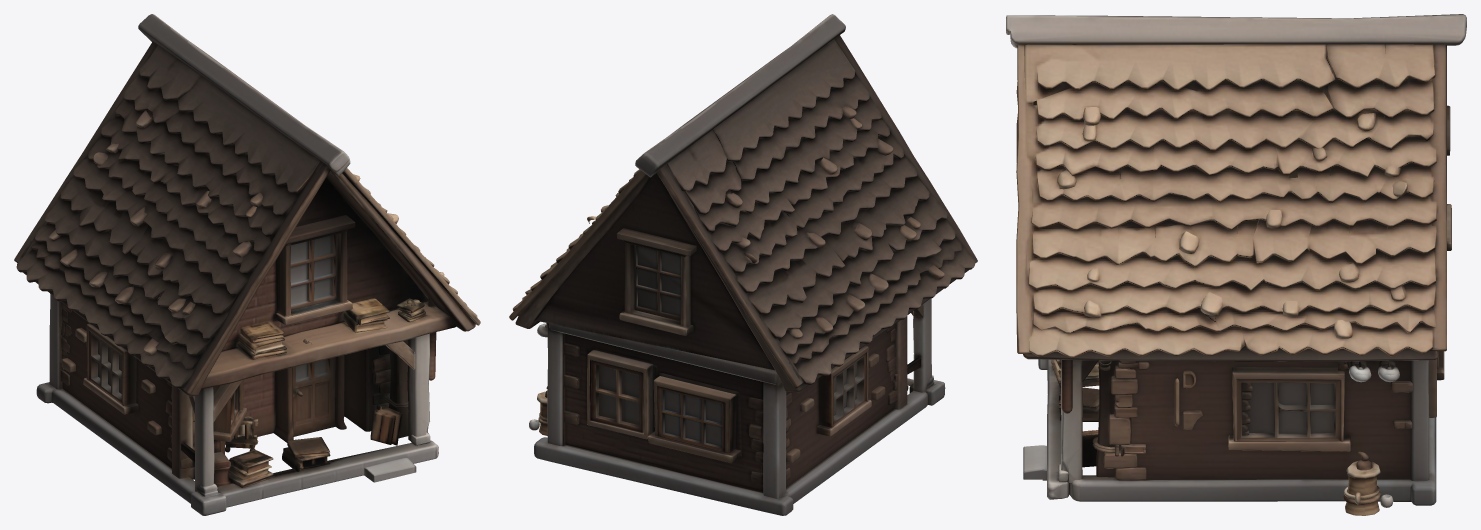
Rendered from attic-house.glb.
3 views of the same model, side by side, from view 1: azimuth 30°, elevation 25°; view 2: azimuth 150°, elevation 25°; view 3: azimuth 270°, elevation 25° (orthographic). The views are drawn at different scales.
Visible parts, largest first — view 1: tripo_59c287dc_d756_43ea_b475_7c4f5a5b43fd; view 2: tripo_59c287dc_d756_43ea_b475_7c4f5a5b43fd; view 3: tripo_59c287dc_d756_43ea_b475_7c4f5a5b43fd.
Boxes of the visible parts, left/top/right/bottom form: tripo_59c287dc_d756_43ea_b475_7c4f5a5b43fd: left=14, top=14, right=480, bottom=515; tripo_59c287dc_d756_43ea_b475_7c4f5a5b43fd: left=509, top=14, right=977, bottom=515; tripo_59c287dc_d756_43ea_b475_7c4f5a5b43fd: left=1006, top=14, right=1466, bottom=515.
Bounding box in the file's own units: 0.938 × 0.9995 × 0.9976.
1 material, 1 textured.
